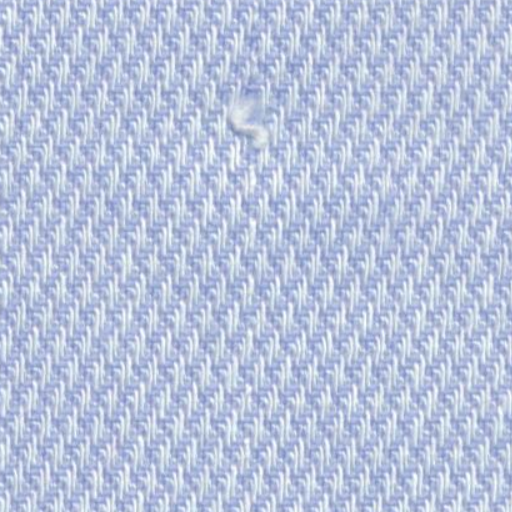DuanSha: (216, 80, 280, 154)
